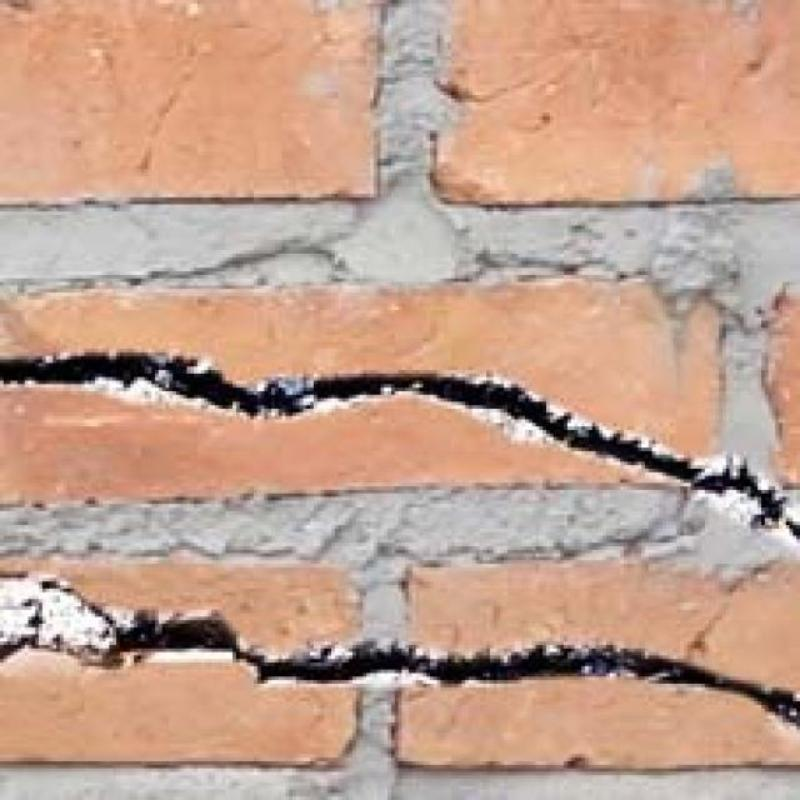crack: (0, 353, 799, 538), (41, 581, 799, 726), (0, 598, 99, 661)
